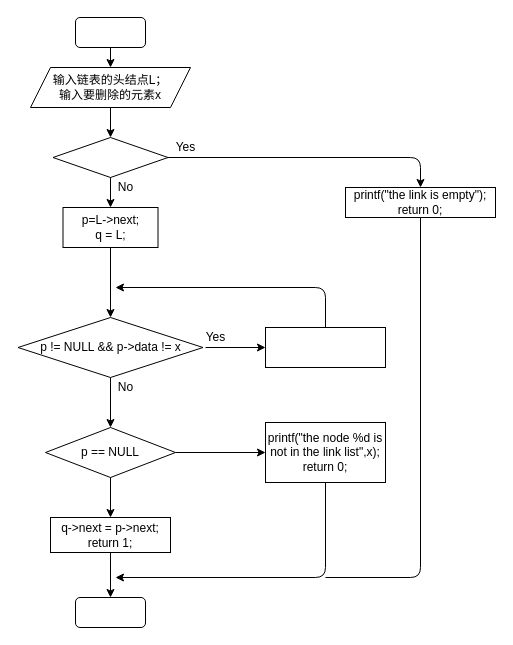
Some shapes in this 513 by 645 pixel diagram are drawn without their labels. The shapes that lost their labels are listed below. From the top down, each one's centre as x and y in pixels, then its label:
(110,32): 开始
(110,157): L->next == NULL
(325,347): q = p; p = p->next;
(110,612): 结束
